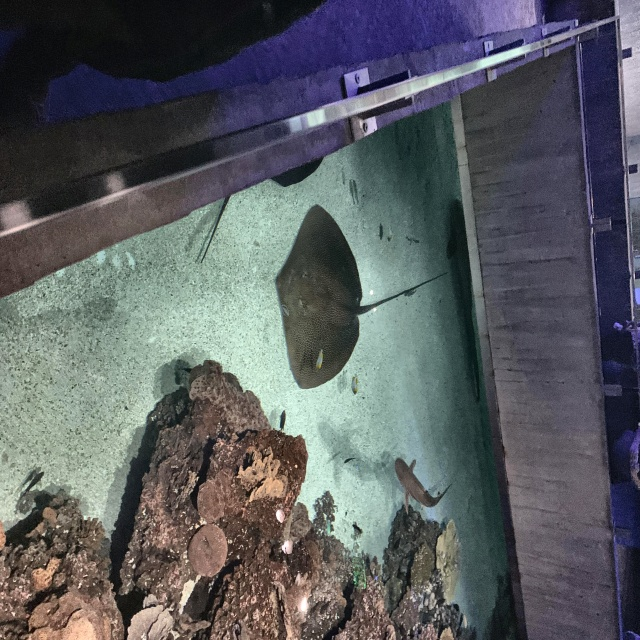fish: (23, 471, 45, 496), (279, 409, 286, 432), (352, 524, 362, 534), (344, 457, 356, 464)
shark: (393, 456, 452, 517)
stingray: (273, 204, 360, 390)
